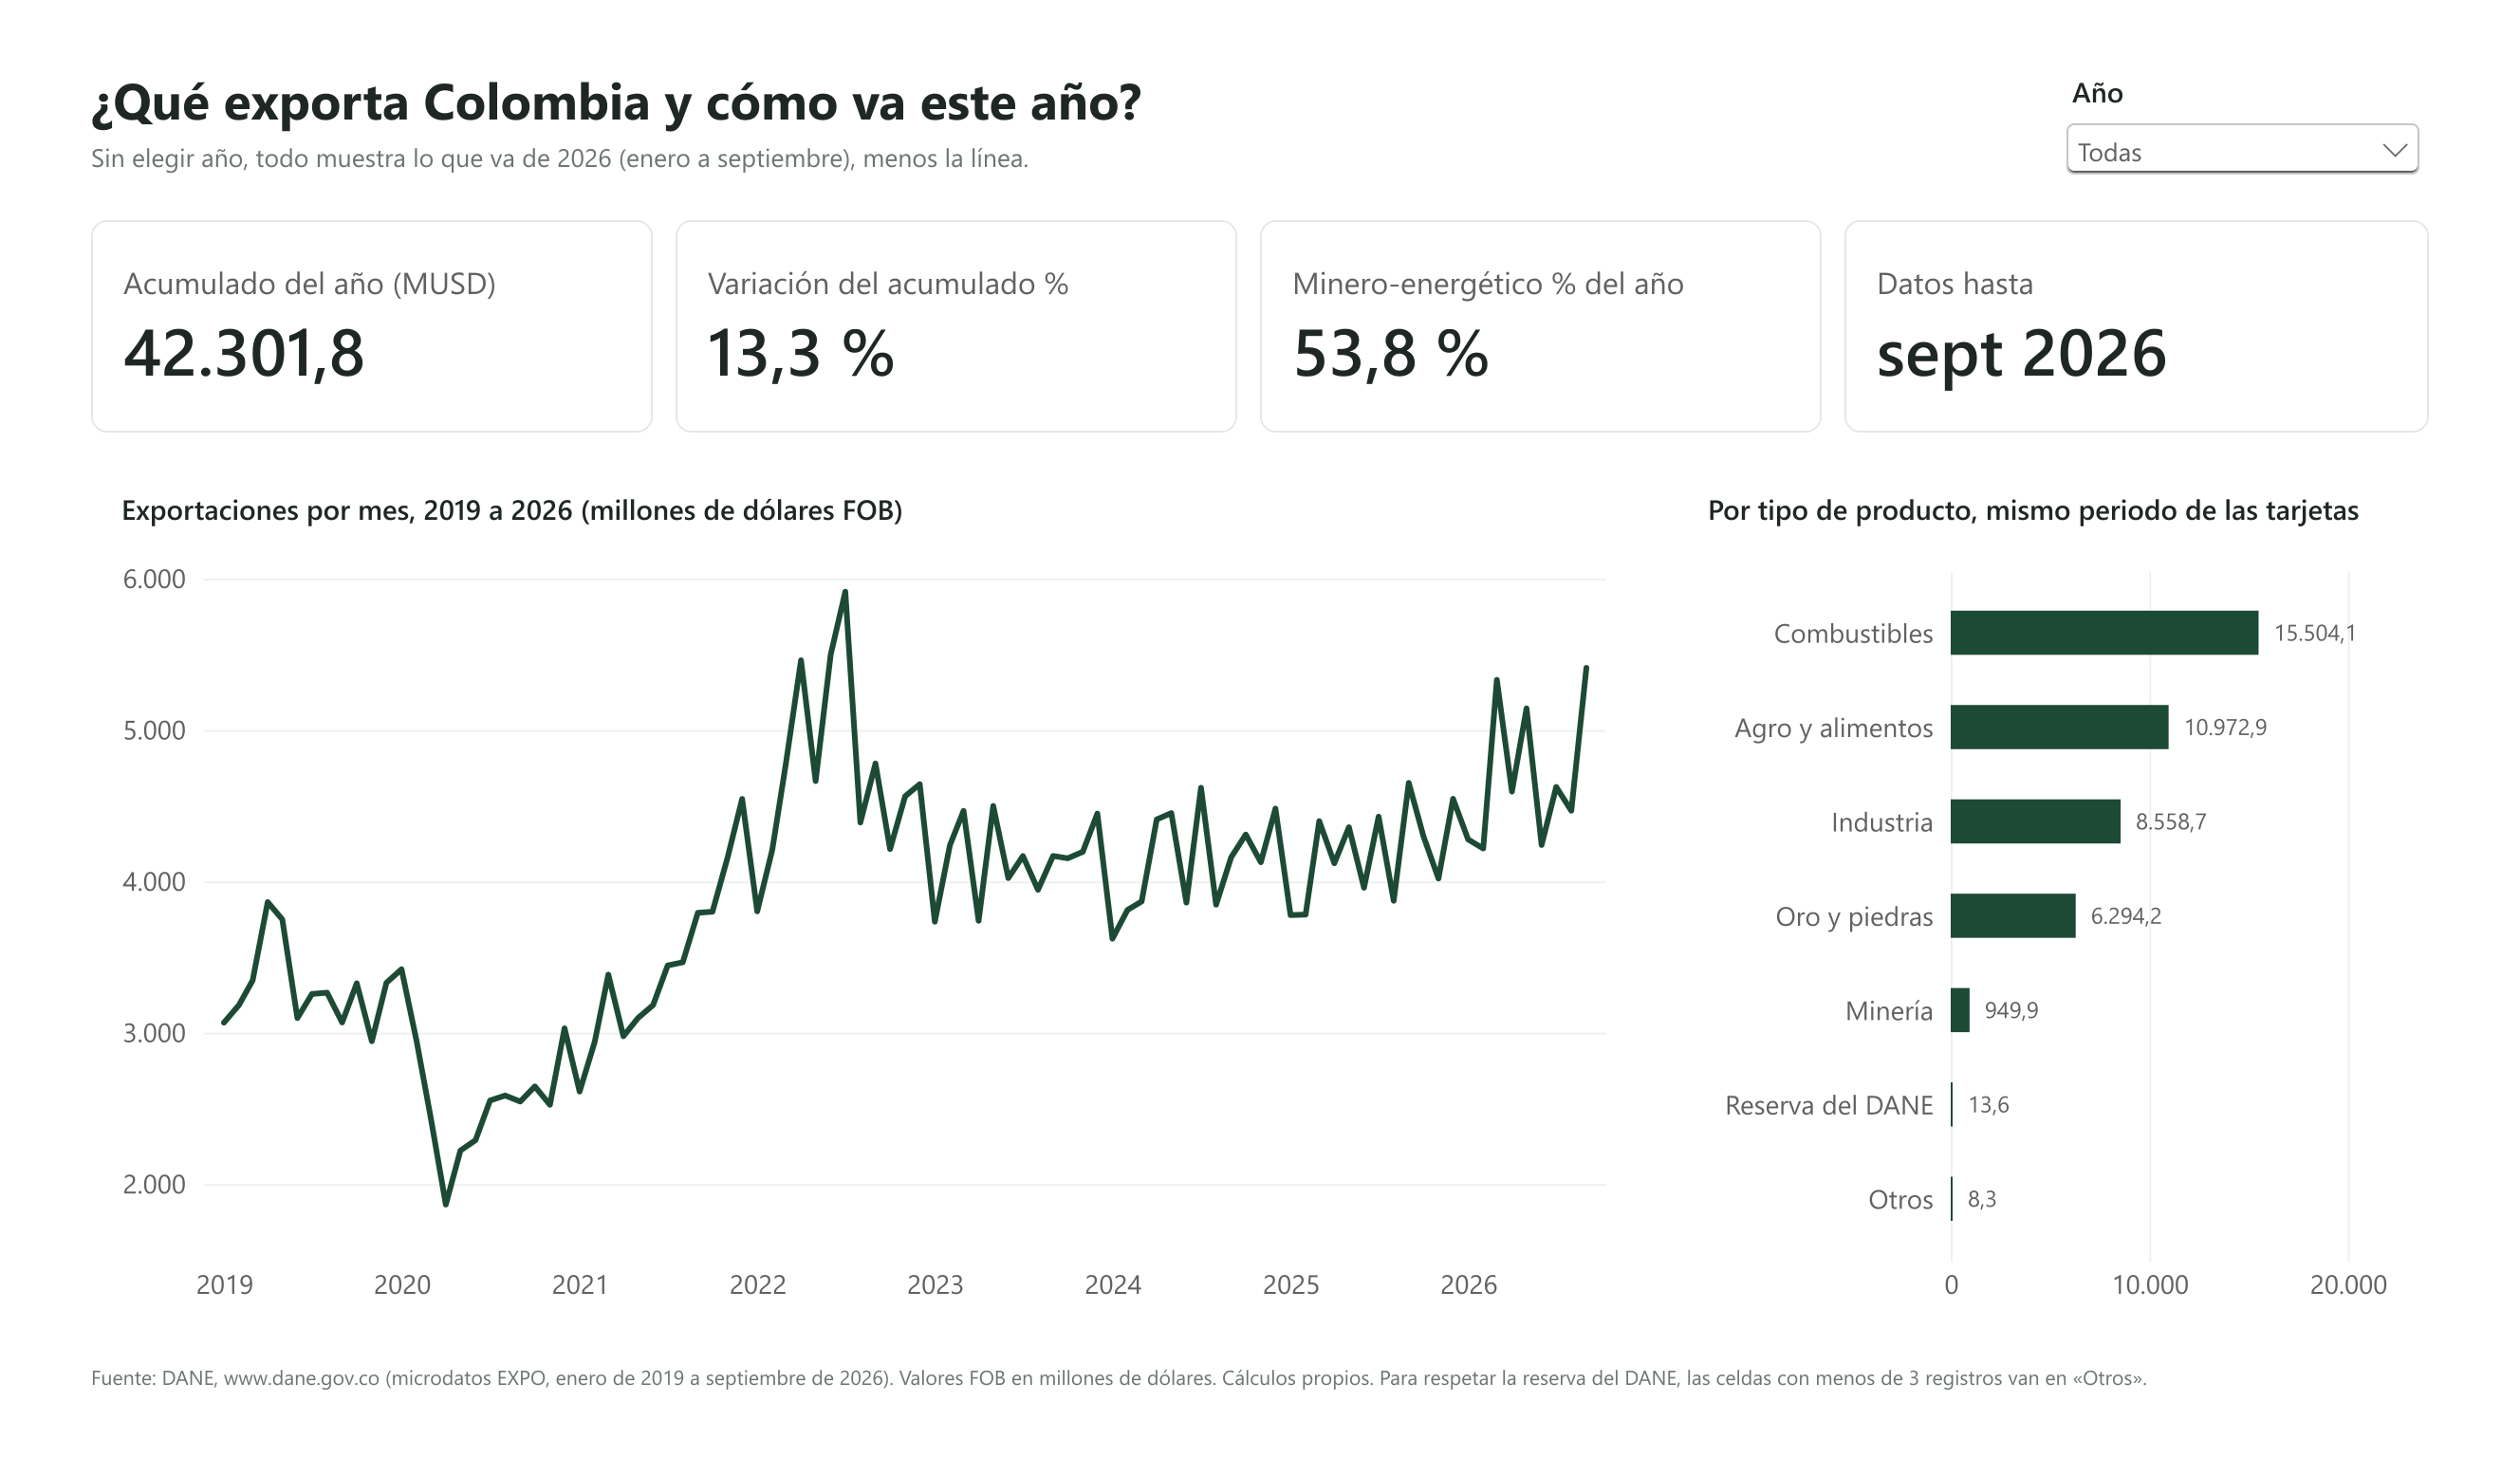

This screenshot's page, from the dashboard's own definition file:
{"tool":"powerbi","page":{"name":"Resumen","canvas":[1280,720],"ordinal":0},"visuals":[{"type":"textbox","box":[24,10,800,44],"z":0},{"type":"textbox","box":[24,50,800,30],"z":1},{"type":"slicer","fields":{"Values":["Calendario.Año"]},"box":[1060,14,196,64],"z":2},{"type":"cardVisual","fields":{"Data":["Medidas.Acumulado del año (MUSD)"]},"box":[24,92,296,112],"z":3},{"type":"cardVisual","fields":{"Data":["Medidas.Variación del acumulado %"]},"box":[332,92,296,112],"z":4},{"type":"cardVisual","fields":{"Data":["Medidas.Minero-energético % del año"]},"box":[640,92,296,112],"z":5},{"type":"cardVisual","fields":{"Data":["Medidas.Datos hasta"]},"box":[948,92,308,112],"z":6},{"type":"lineChart","title":"Exportaciones por mes, 2019 a 2026 (millones de dólares FOB)","fields":{"Category":["Calendario.Mes"],"Y":["Medidas.Exportaciones (MUSD)"]},"box":[24,220,820,464],"z":7},{"type":"clusteredBarChart","title":"Por tipo de producto, mismo periodo de las tarjetas","fields":{"Category":["dim_capitulo.Grupo"],"Y":["Medidas.Acumulado del año (MUSD)"]},"box":[860,220,396,464],"z":8},{"type":"textbox","box":[24,692,1232,24],"z":90}]}

Visuals, with their boxes in screenshot pixels (x1, y1, x2, y2), scaled from the page's 1280x720 canvas onto the 2520x1457 screenshot:
textbox: left=47, top=20, right=1622, bottom=109
textbox: left=47, top=101, right=1622, bottom=162
slicer - Calendario.Año: left=2087, top=28, right=2473, bottom=157
cardVisual - Medidas.Acumulado del año (MUSD): left=47, top=186, right=630, bottom=413
cardVisual - Medidas.Variación del acumulado %: left=654, top=186, right=1236, bottom=413
cardVisual - Medidas.Minero-energético % del año: left=1260, top=186, right=1843, bottom=413
cardVisual - Medidas.Datos hasta: left=1866, top=186, right=2473, bottom=413
"Exportaciones por mes, 2019 a 2026 (millones de dólares FOB)" lineChart: left=47, top=445, right=1661, bottom=1384
"Por tipo de producto, mismo periodo de las tarjetas" clusteredBarChart: left=1694, top=445, right=2473, bottom=1384
textbox: left=47, top=1400, right=2473, bottom=1448
